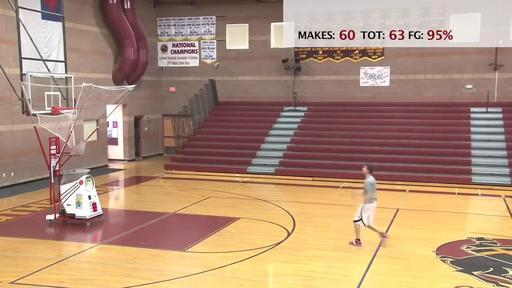human: (349, 163, 389, 248)
rim: (56, 108, 80, 126)
